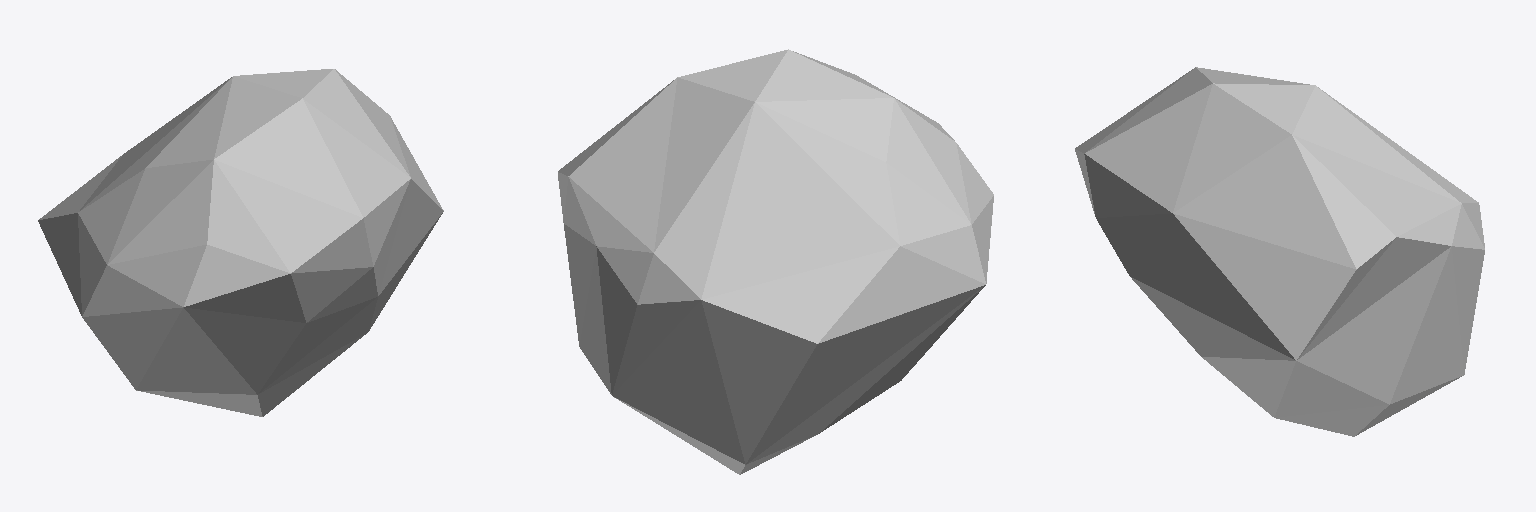
File: RockDebris.obj
3 views of the same model, side by side, from view 1: azimuth 30°, elevation 25°; view 2: azimuth 150°, elevation 25°; view 3: azimuth 270°, elevation 25° (orthographic).
Visible parts, largest first — view 1: RockDebris_Low; view 2: RockDebris_Low; view 3: RockDebris_Low.
Part boxes in pixels (bbox=[...]): RockDebris_Low: bbox=[38, 69, 443, 416]; RockDebris_Low: bbox=[558, 49, 993, 474]; RockDebris_Low: bbox=[1075, 67, 1484, 436].
Bounding box in the file's own units: 0.012 × 0.0105 × 0.0109.